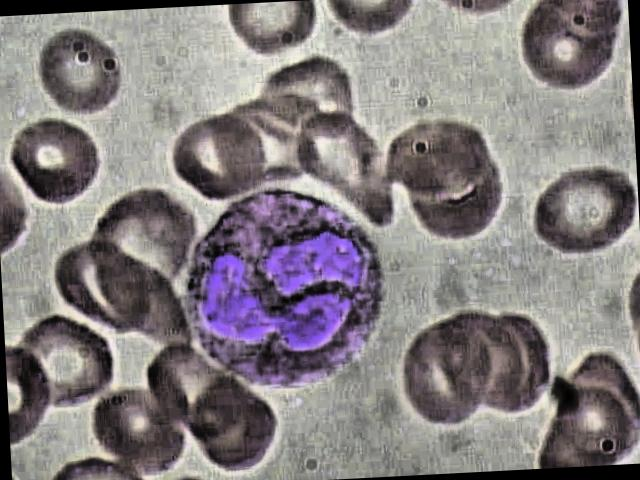RBC: (292, 108, 399, 232), (394, 315, 500, 437), (378, 116, 498, 213), (48, 236, 156, 343), (526, 163, 640, 262), (14, 309, 120, 413), (510, 0, 621, 99), (28, 23, 134, 126), (166, 109, 270, 212), (5, 111, 107, 212), (86, 382, 191, 480), (190, 388, 290, 477)
WBC: (172, 178, 397, 401)
